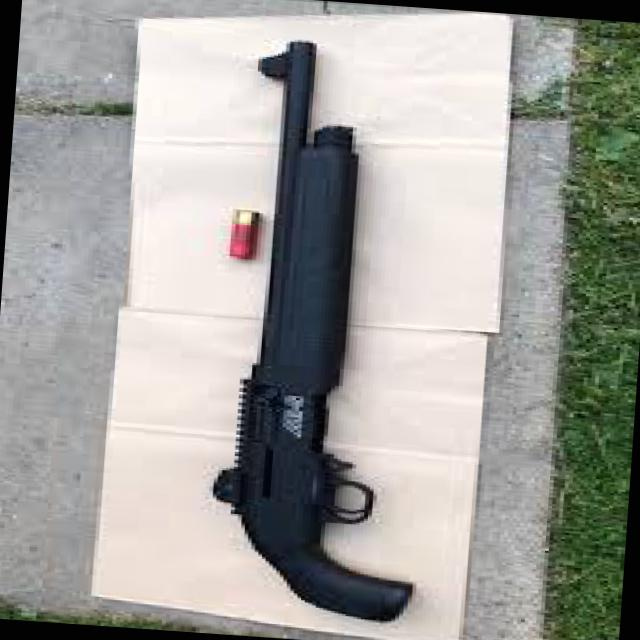long weapon: (169, 18, 428, 630)
